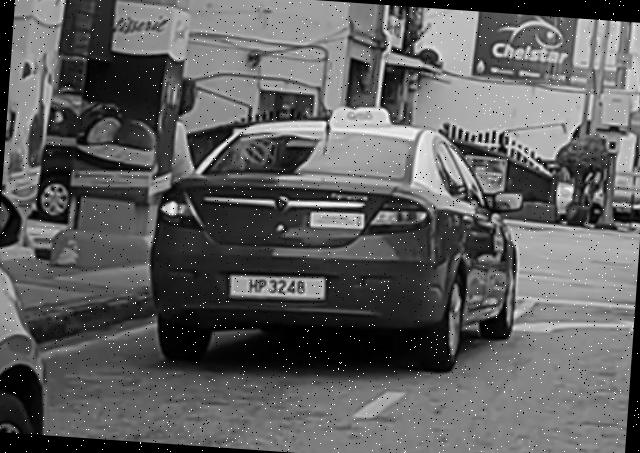License_Plate: (227, 269, 329, 306)
car: (143, 92, 532, 383)
